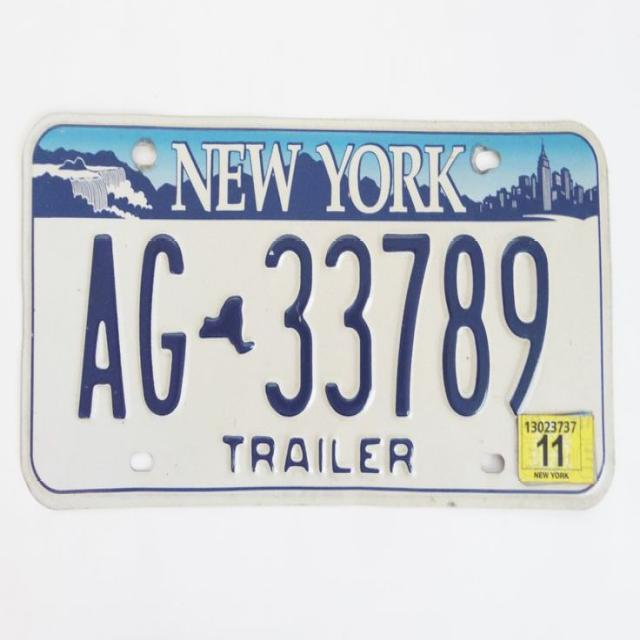placa: (36, 223, 598, 424)
